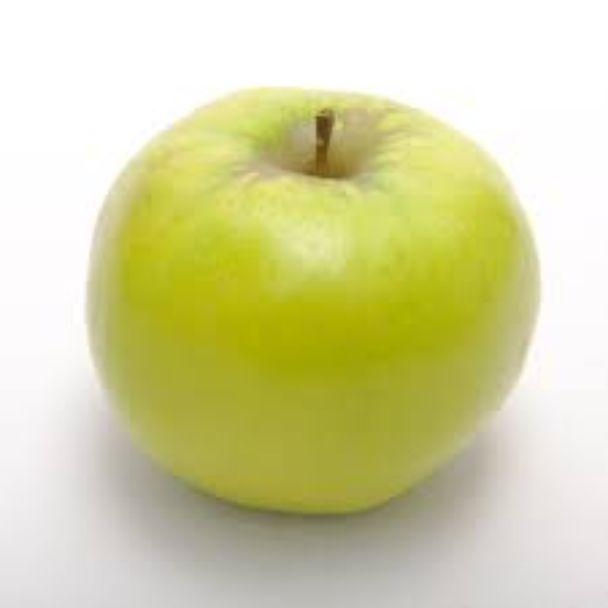fruit: (72, 64, 568, 527)
